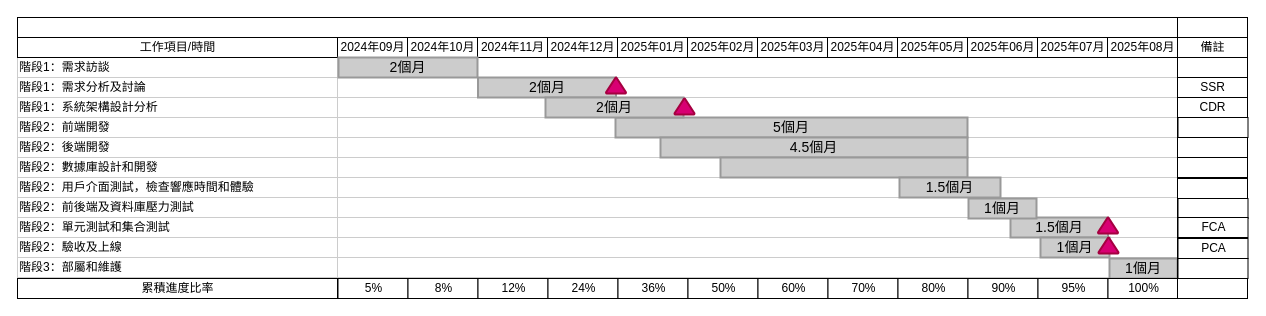
Some shapes in this 1266 by 316 pixel diagram are drawn without their labels. Here are the shapes that lost their labels. From the top down, the centre of each, then its label:
[597,27]: 【 網購系統】 預定進度甘特圖
[843,167]: 3.5個月
